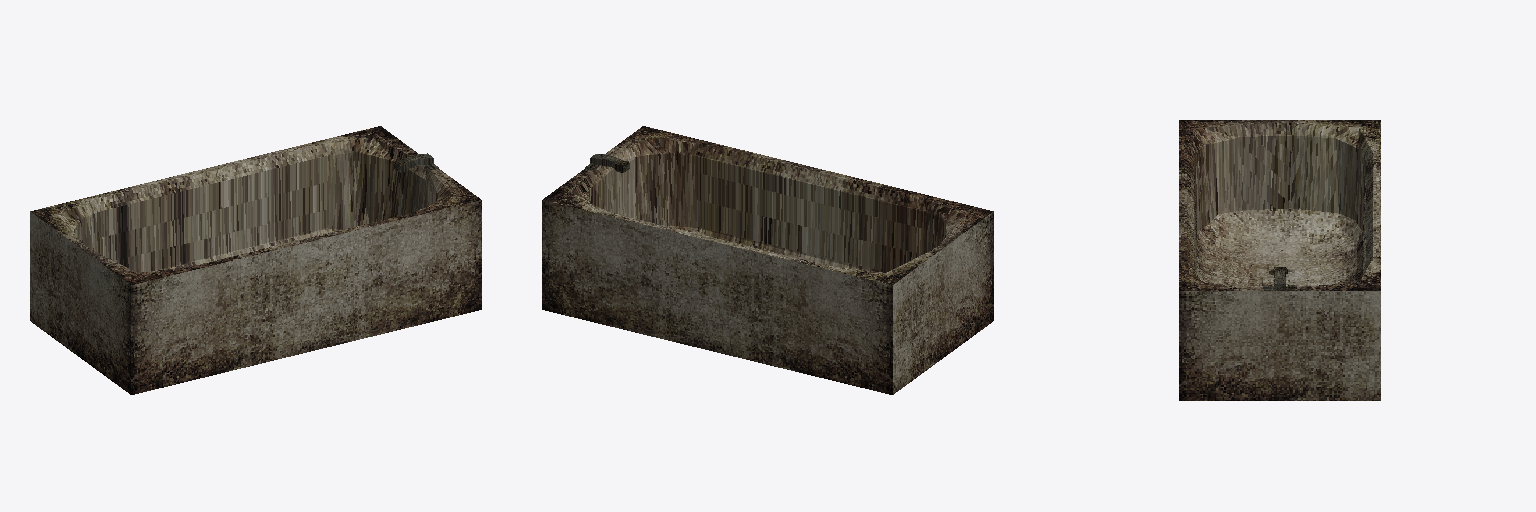
The picture shows the model from 3 angles: view 1: azimuth 30°, elevation 25°; view 2: azimuth 150°, elevation 25°; view 3: azimuth 270°, elevation 25°; orthographic projection.
Visible parts, largest first — view 1: Mesh_0_Mesh_0_lambert2SG; view 2: Mesh_0_Mesh_0_lambert2SG; view 3: Mesh_0_Mesh_0_lambert2SG.
Part boxes in pixels (x1,y1,x2,y2): Mesh_0_Mesh_0_lambert2SG: (30,126,481,394); Mesh_0_Mesh_0_lambert2SG: (542,126,993,394); Mesh_0_Mesh_0_lambert2SG: (1179,120,1380,400).
Size of the model in its own units: 1.91 by 0.6207 by 0.9549.
1 materials, 1 textured.